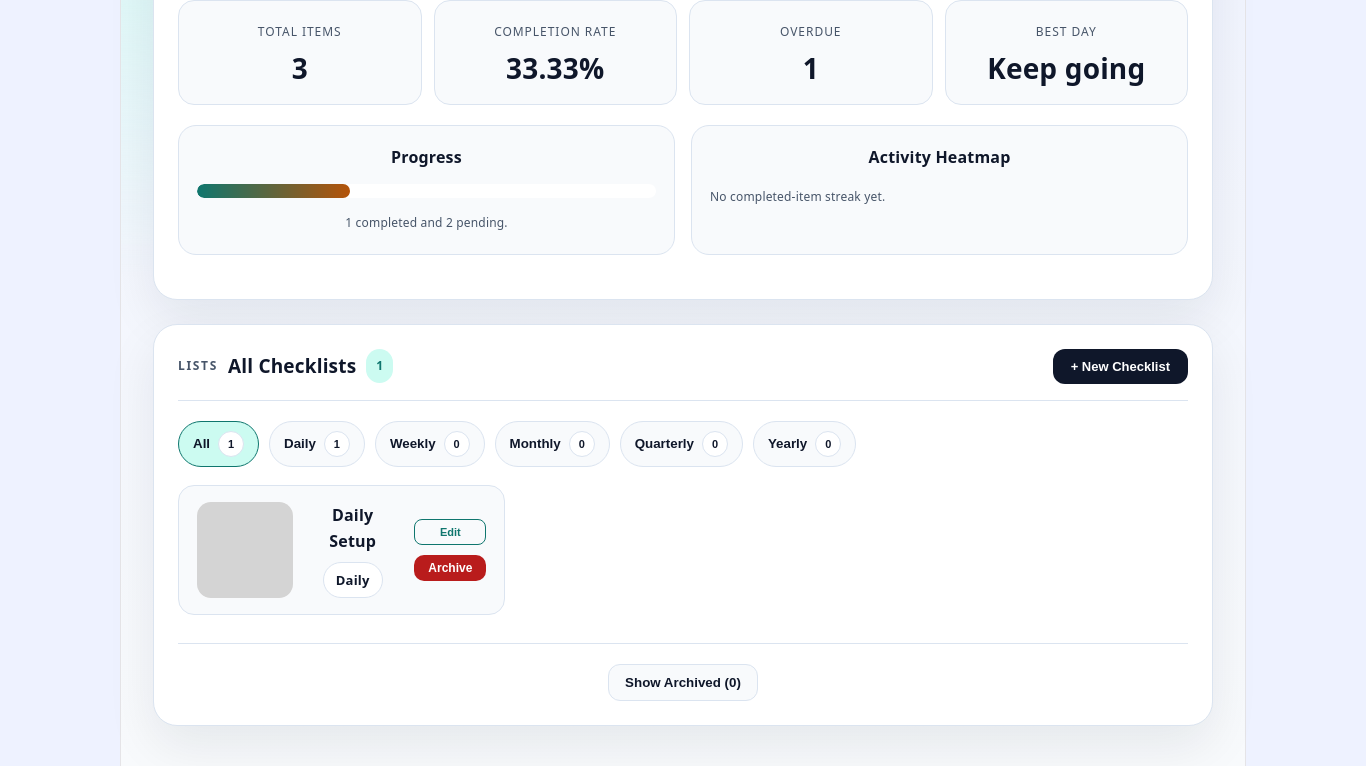
Test case: Dashboard › shows the empty state when a checklist has no items
(page scrolled)
Click the text "Daily Setup".
click(353, 528)  # box [329,504,376,552]
(page scrolled)
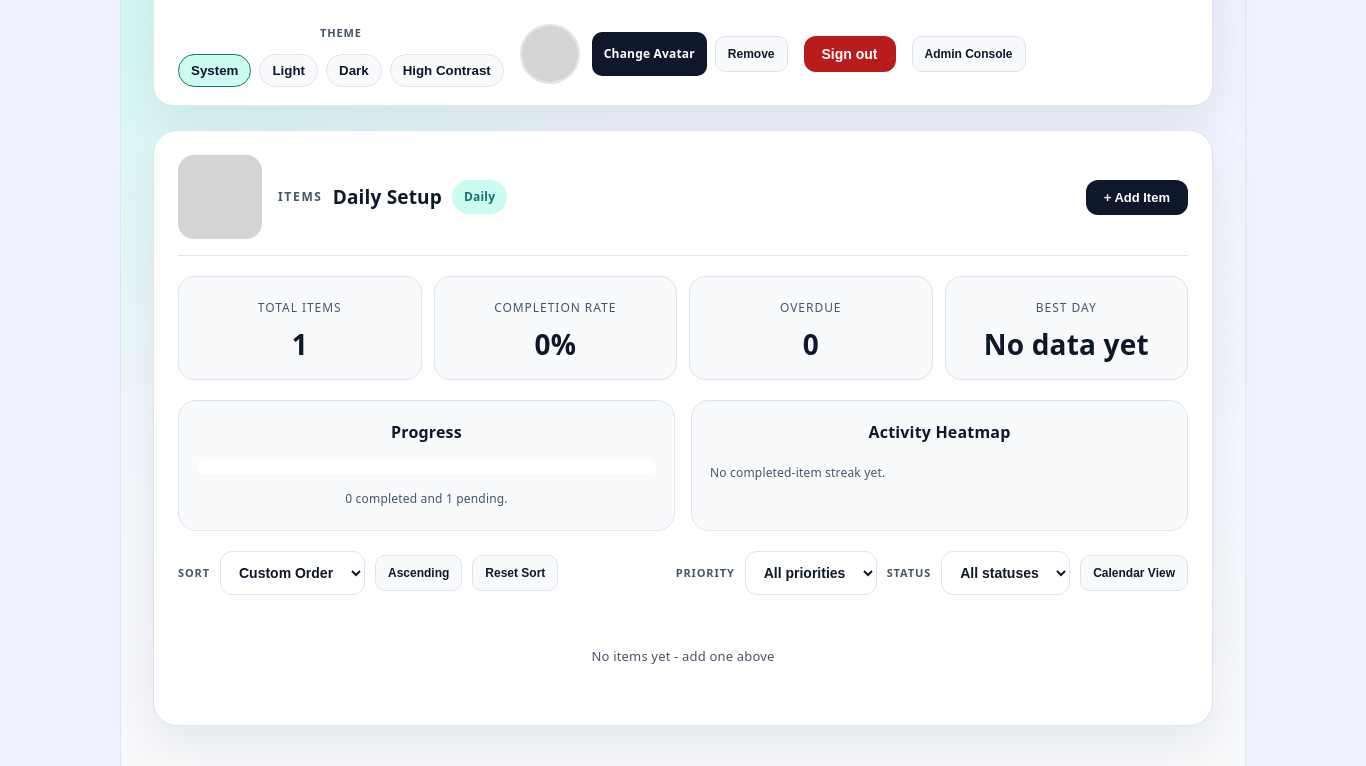
Now the text "No items yet - add one above" is shown, box [592,647,774,665]
